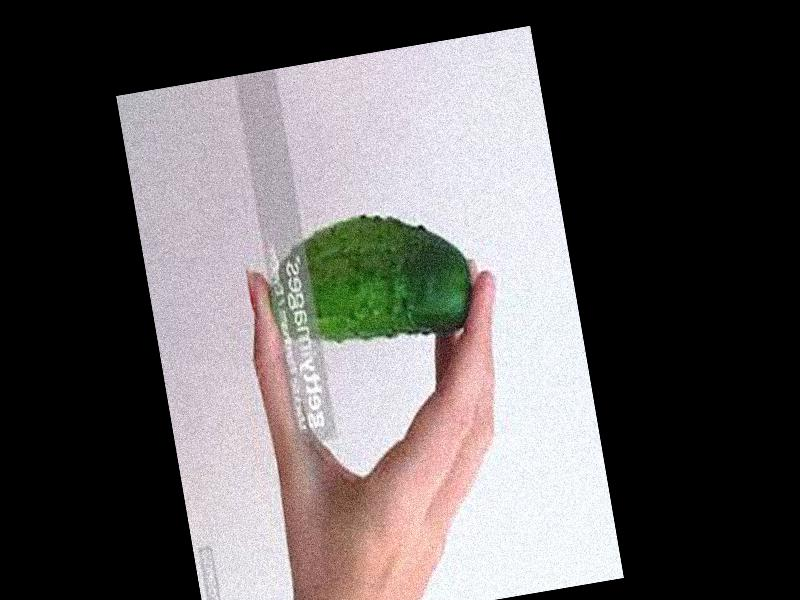Cucumber: (257, 198, 478, 359)
